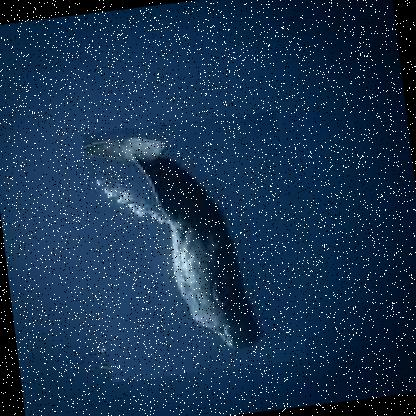sperm_whale: (81, 109, 306, 382)
